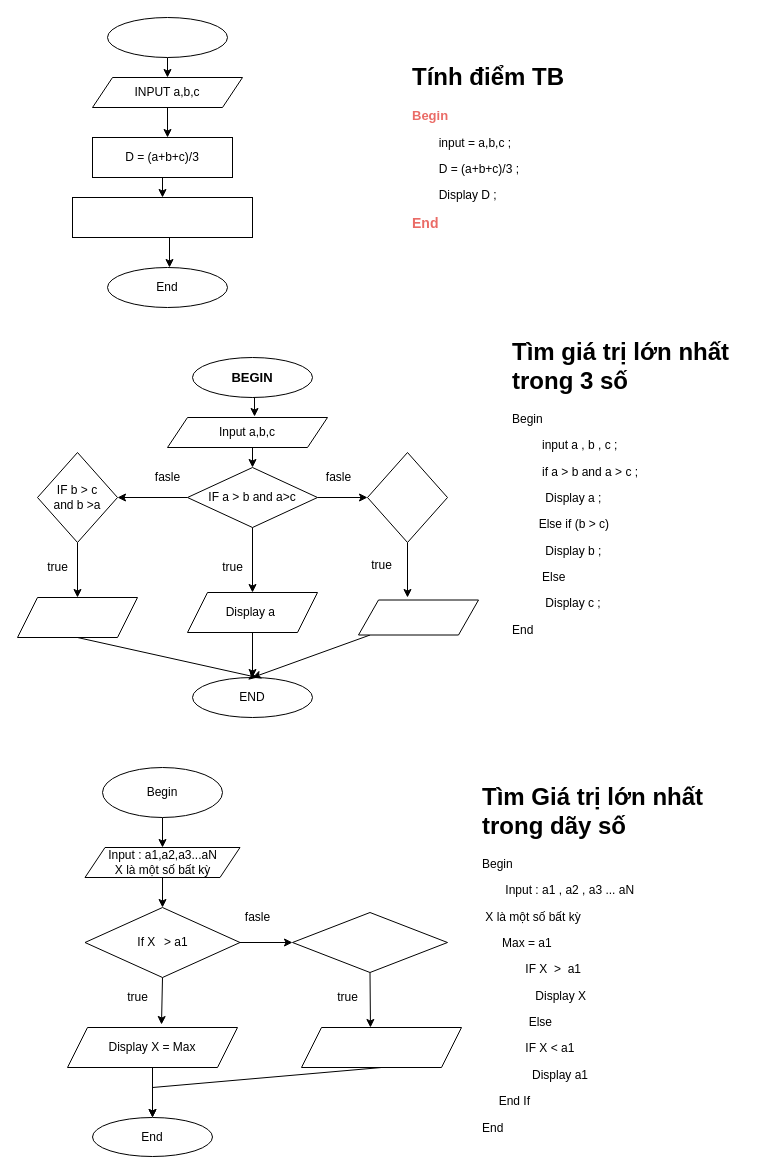
This 765x1174 diagram has some shape labels left out. The box of each missing label's shape, as (x1, y1, x2, y2) in pixels:
Display a1 = max: (300, 1026, 462, 1068)
Display b: (16, 596, 138, 638)
Display c: (358, 599, 478, 635)
Display D: (72, 196, 252, 238)
IF c > b and c < a: (366, 452, 448, 542)
IF X < a1: (292, 912, 448, 972)
START: (106, 16, 228, 58)
